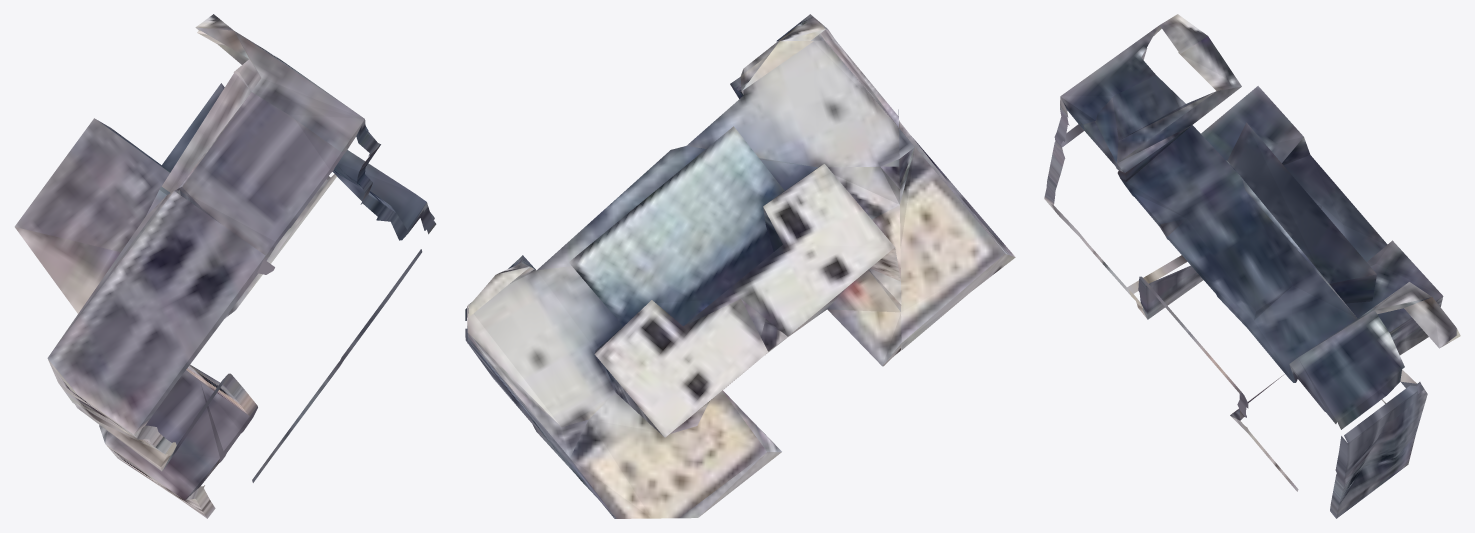
3 views of the same model, side by side, from view 1: azimuth 30°, elevation 25°; view 2: azimuth 150°, elevation 25°; view 3: azimuth 270°, elevation 25° (orthographic). The views are drawn at different scales.
Bounding box in the file's own units: 39.46 × 40.67 × 34.56.
Materials: 1 (1 with a texture image).
